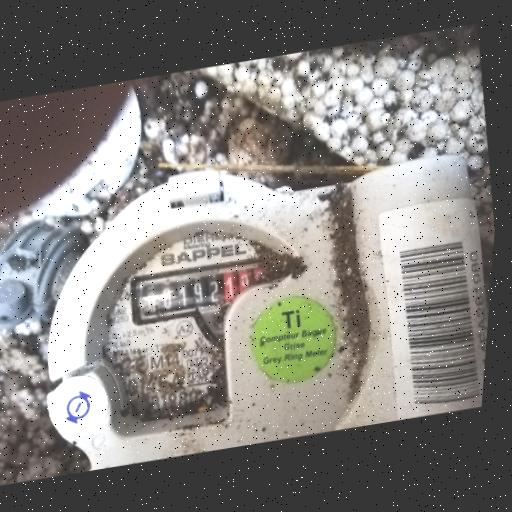0: (155, 280, 180, 313), (139, 283, 163, 316)
1: (218, 269, 241, 303), (173, 277, 196, 310)
2: (203, 272, 226, 305)
9: (189, 275, 211, 308), (234, 266, 256, 293)
border_water_meter_number: (124, 252, 287, 327)
